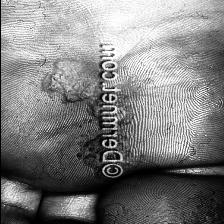Toxin: (47, 47, 94, 102), (76, 130, 130, 172)
